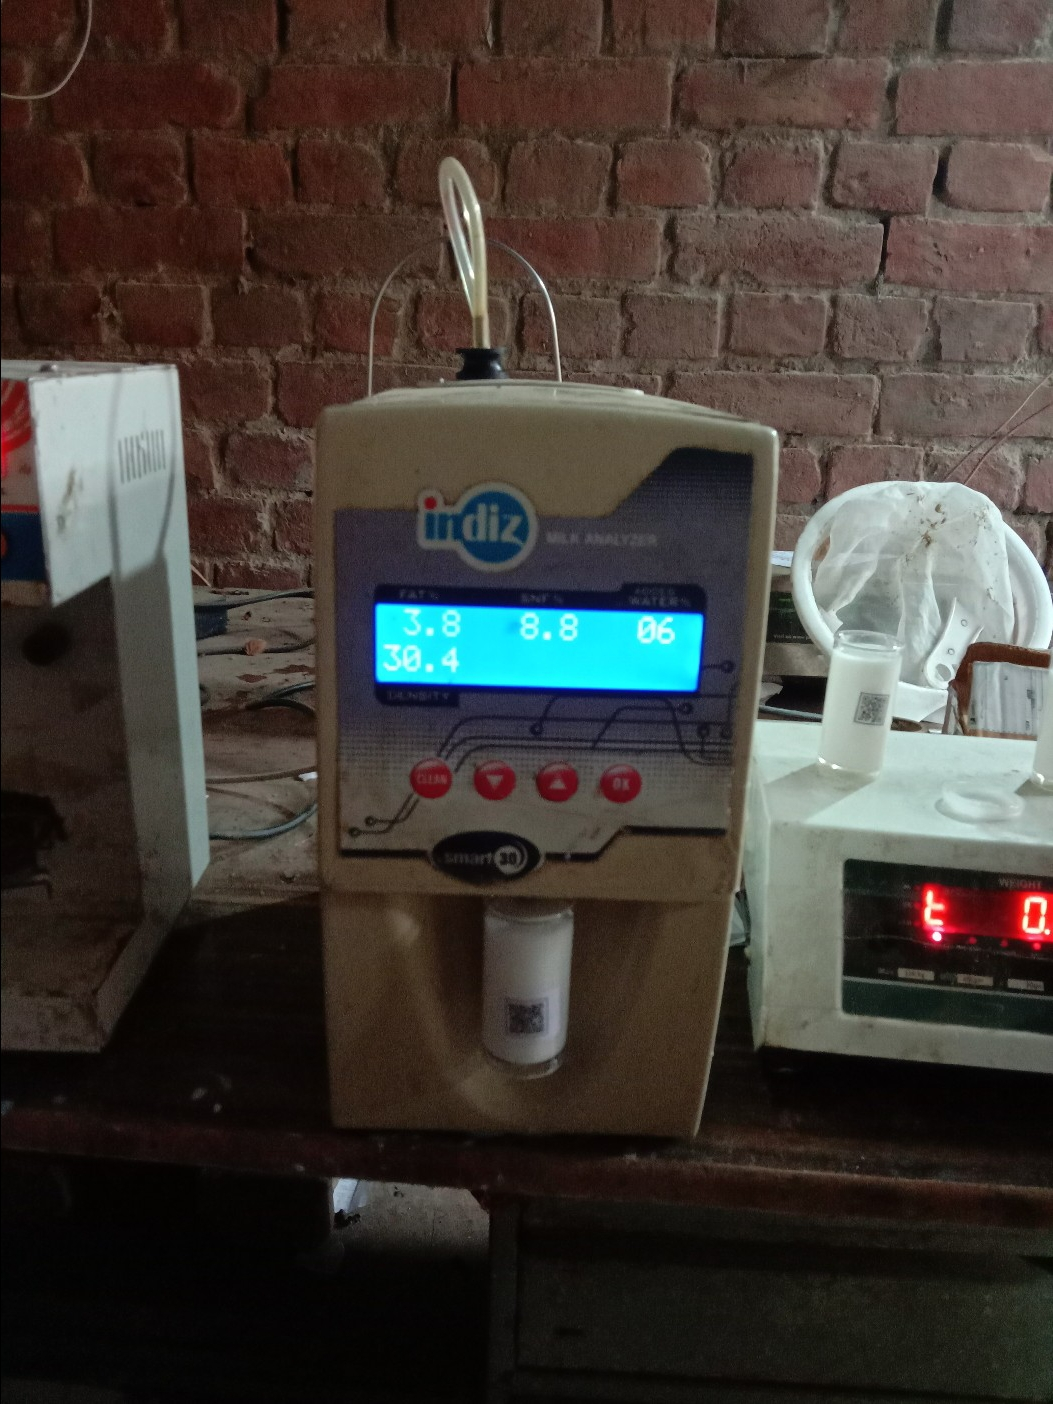lcd: (361, 599, 719, 703)
qr: (496, 997, 574, 1042), (853, 684, 892, 729)
